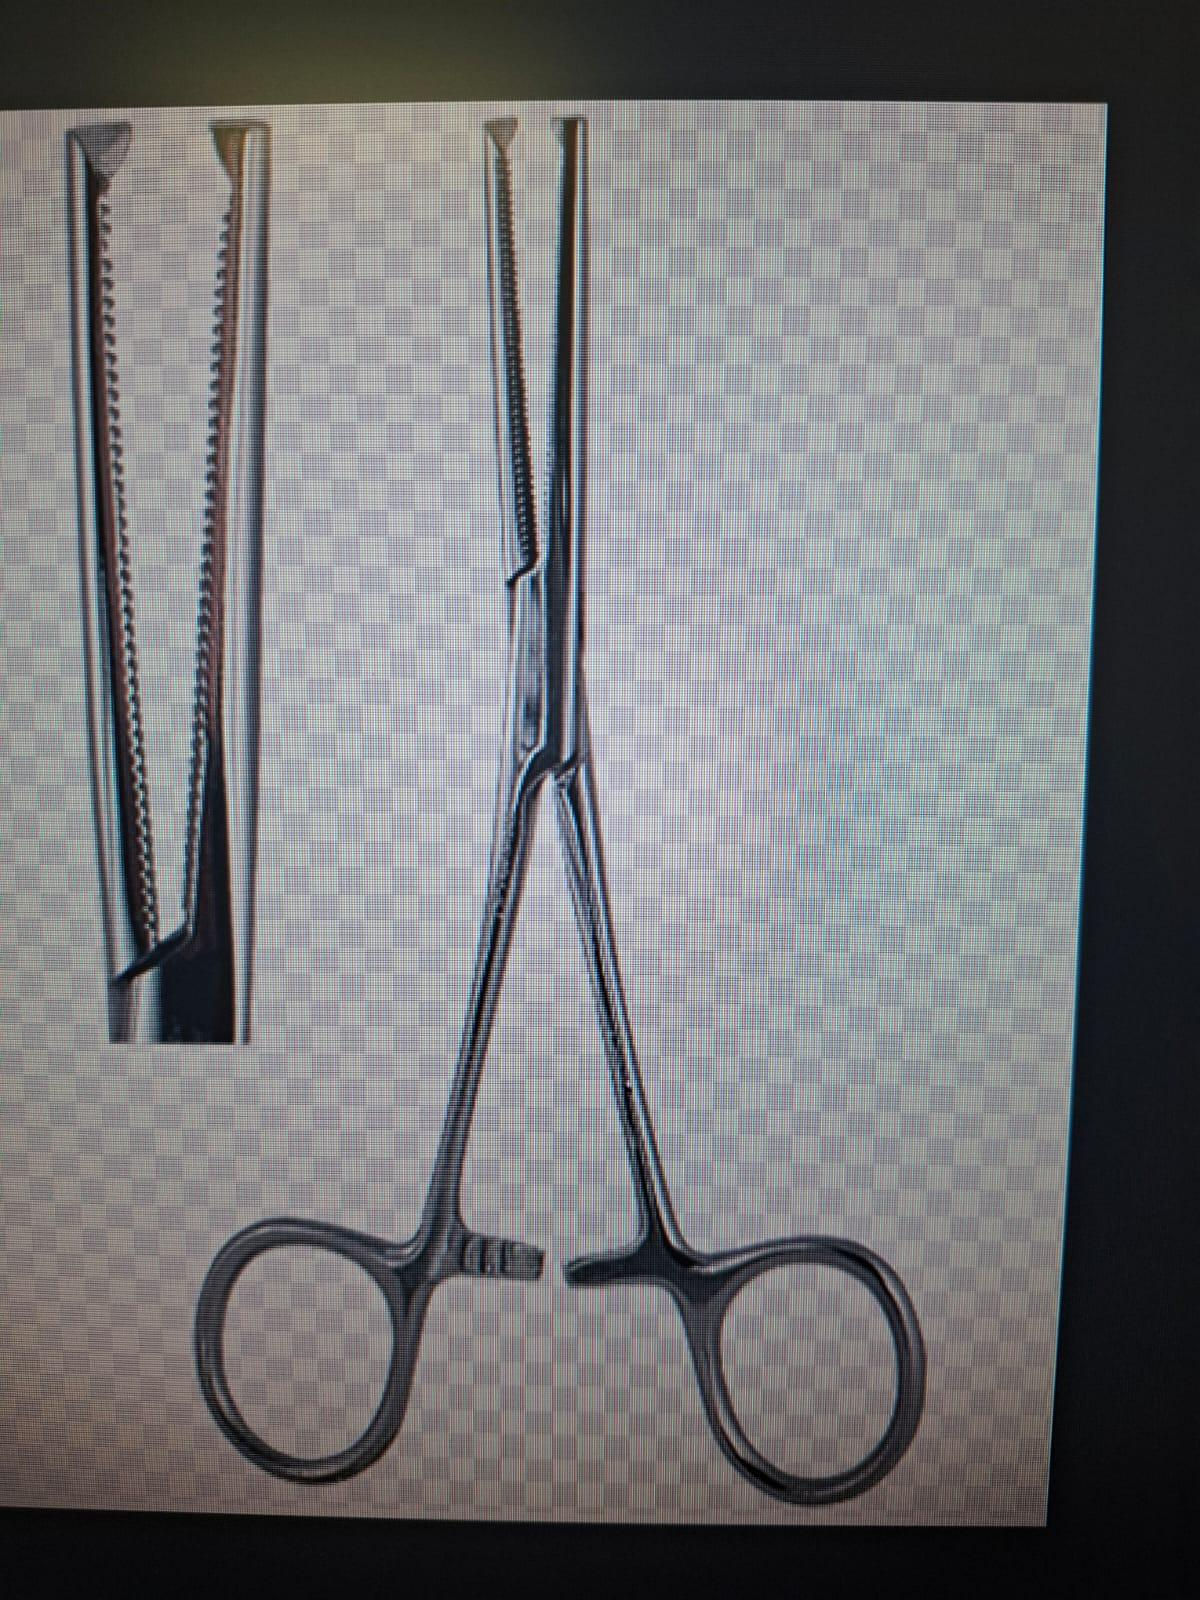Kocher Forceps: (190, 110, 940, 1512)
